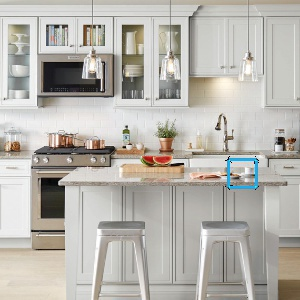square: (225, 156, 261, 190)
